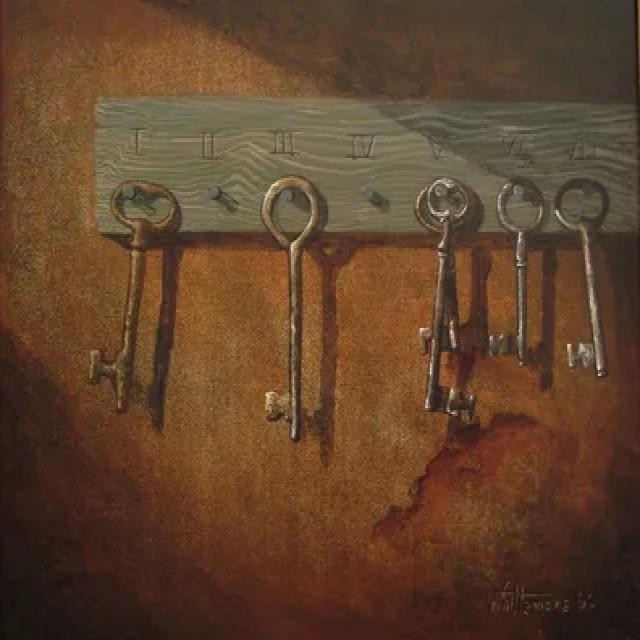key: (241, 143, 340, 434), (88, 164, 187, 422), (552, 164, 621, 392)
